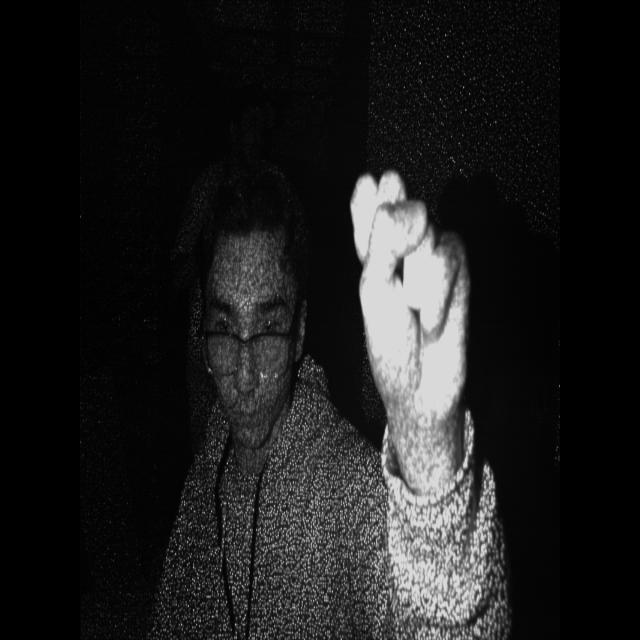S: (333, 144, 494, 443)
